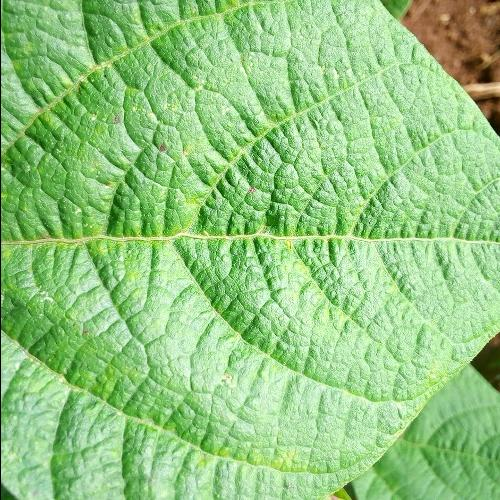sehat: (27, 19, 468, 466)
